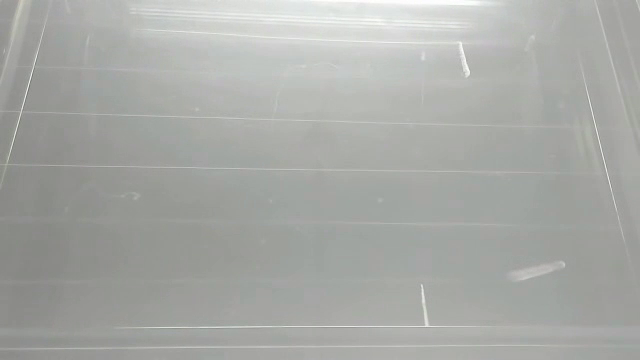alpha: (503, 254, 567, 284), (452, 37, 478, 81), (415, 280, 436, 333)
